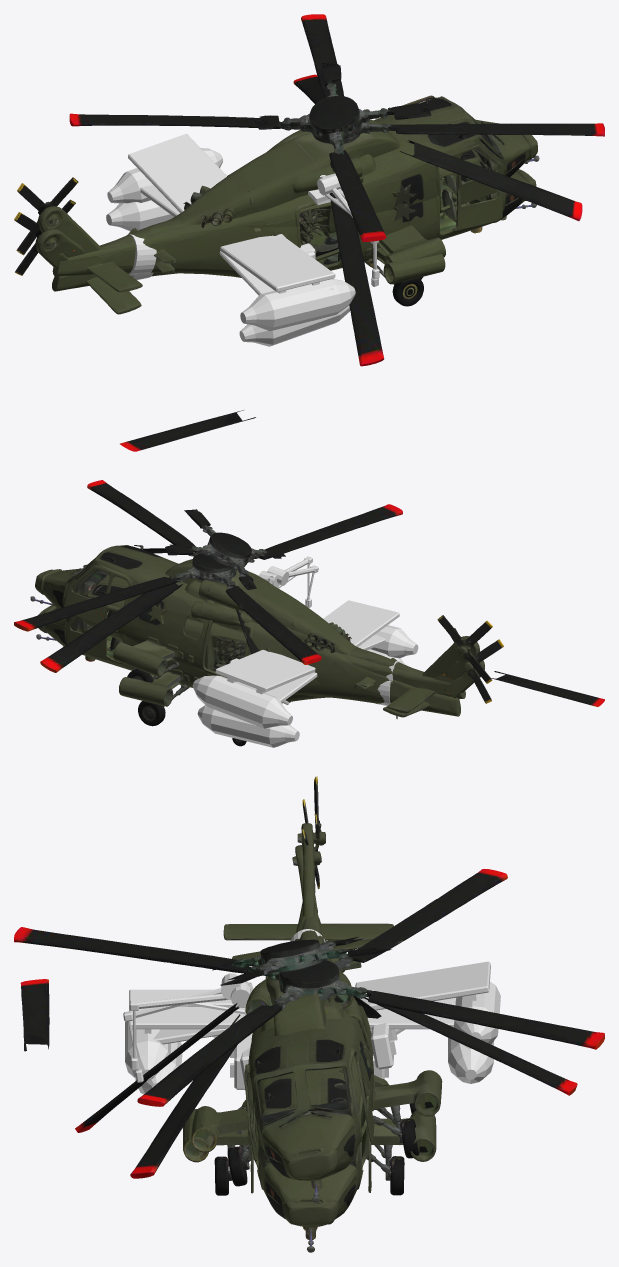
File: air_medevac_heli.glb
3 renders of one model, top to bottom at view 1: azimuth 30°, elevation 25°; view 2: azimuth 150°, elevation 25°; view 3: azimuth 270°, elevation 25°, orthographic. The views are drawn at different scales.
Parts seen in each view (by area): view 1: WRECK_hull_hull, hull_hull, WRECK_rotor_metal, medevac_hull, rotor_metal, WRECK_medevac_hull, WRECK_medevac_metal, medevac_plate; view 2: WRECK_hull_hull, hull_hull, rotor_metal, WRECK_rotor_metal, WRECK_medevac_hull, medevac_hull, WRECK_medevac_metal, medevac_metal; view 3: WRECK_hull_hull, hull_hull, rotor_metal, WRECK_rotor_metal, medevac_hull, WRECK_medevac_hull, medevac_metal, WRECK_medevac_metal.
Boxes of the visible parts, left/top/right/bottom form: WRECK_hull_hull: left=14, top=95, right=539, bottom=314; hull_hull: left=16, top=149, right=536, bottom=306; WRECK_rotor_metal: left=120, top=62, right=582, bottom=451; medevac_hull: left=106, top=185, right=355, bottom=331; rotor_metal: left=69, top=14, right=604, bottom=241; WRECK_medevac_hull: left=107, top=133, right=350, bottom=346; WRECK_medevac_metal: left=308, top=173, right=378, bottom=286; medevac_plate: left=127, top=234, right=156, bottom=275; WRECK_hull_hull: left=30, top=545, right=503, bottom=718; hull_hull: left=36, top=574, right=492, bottom=746; rotor_metal: left=14, top=480, right=402, bottom=664; WRECK_rotor_metal: left=40, top=509, right=604, bottom=706; WRECK_medevac_hull: left=192, top=634, right=406, bottom=728; medevac_hull: left=197, top=600, right=418, bottom=747; WRECK_medevac_metal: left=267, top=565, right=318, bottom=606; medevac_metal: left=259, top=556, right=312, bottom=704; WRECK_hull_hull: left=191, top=799, right=442, bottom=1202; hull_hull: left=183, top=776, right=436, bottom=1252; rotor_metal: left=14, top=869, right=604, bottom=1106; WRECK_rotor_metal: left=20, top=936, right=577, bottom=1178; medevac_hull: left=125, top=989, right=493, bottom=1089; WRECK_medevac_hull: left=135, top=961, right=500, bottom=1094; medevac_metal: left=129, top=981, right=404, bottom=1077; WRECK_medevac_metal: left=123, top=973, right=397, bottom=1082.
Bounding box in the file's own units: 5.39 × 1.91 × 4.32.
1 material, 1 textured.
